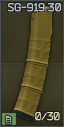PP-19-01 Vityaz-SN 9x19 PUFGUN SG-919 30 30-round magazine: (0, 0, 64, 127)
